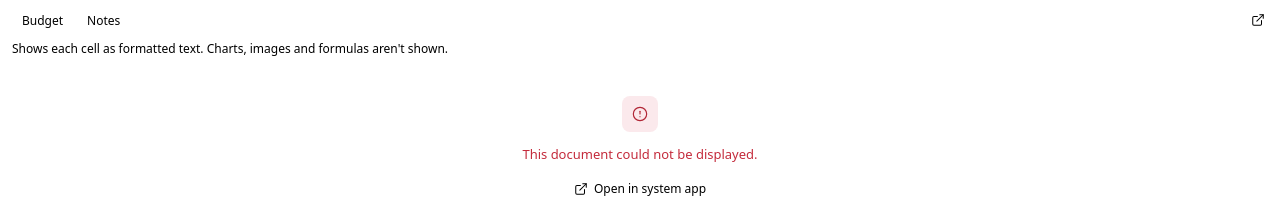
Scenario: SpreadsheetSurface › when one sheet cannot be read › says so under tabs that still work, and another sheet can still be opened
Expected: the message reads "This document could not be displayed.", [522,145,758,163]
Click the tab "Notes" at {"x": 104, "y": 20}, box [77,6,130,34]
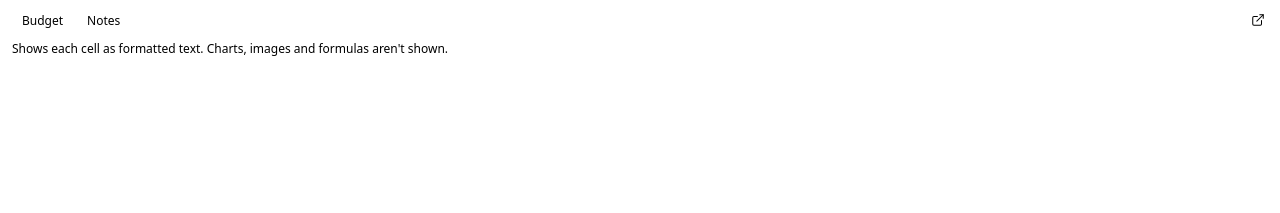
Expected: the message "This document could not be displayed." is gone
